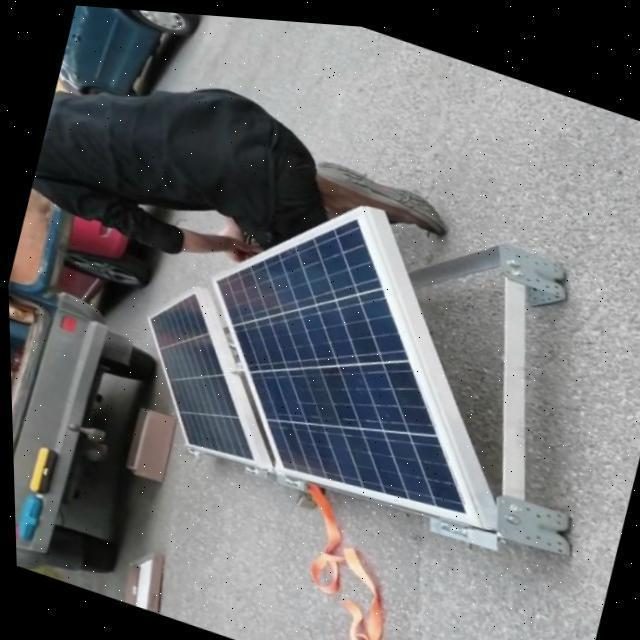Normal Solar Panel: (170, 172, 526, 523), (118, 277, 284, 462)
